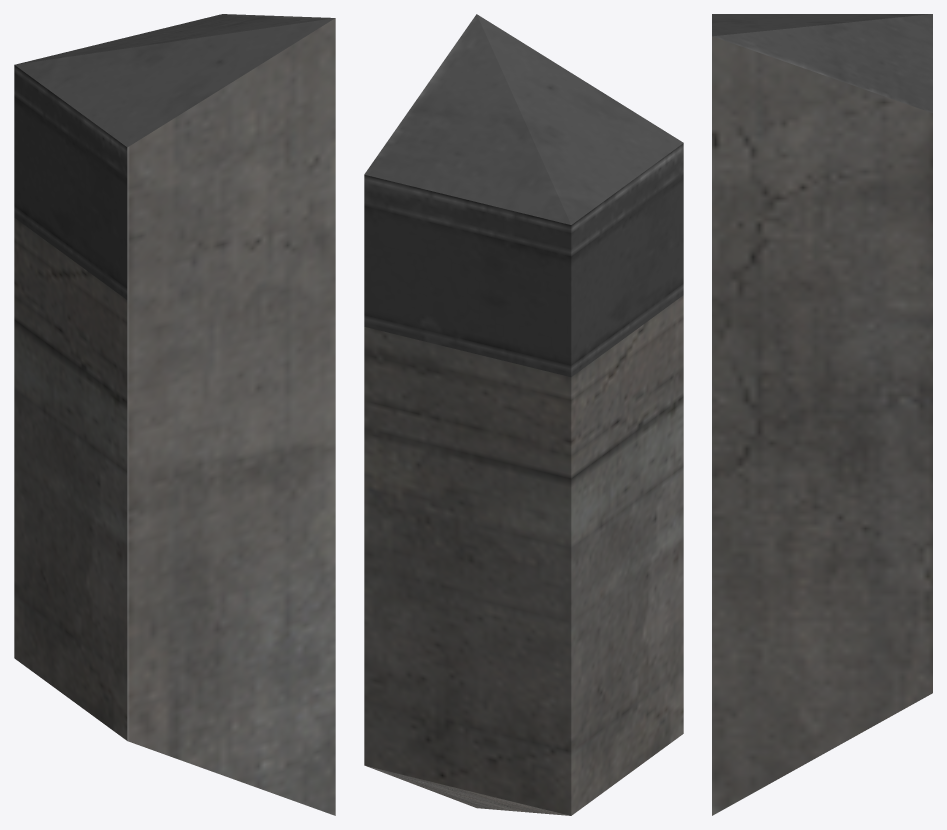
The model's file is CP_Cornice_B_Angle_In.fbx.
3 renders of one model, left to right at view 1: azimuth 30°, elevation 25°; view 2: azimuth 150°, elevation 25°; view 3: azimuth 270°, elevation 25°, orthographic. The views are drawn at different scales.
Parts seen in each view (by area): view 1: CP_Cornice_B_Angle_In; view 2: CP_Cornice_B_Angle_In; view 3: CP_Cornice_B_Angle_In.
Boxes of the visible parts, box(x1,y1,x2,y2) form: CP_Cornice_B_Angle_In: box(14, 14, 335, 815); CP_Cornice_B_Angle_In: box(364, 14, 683, 815); CP_Cornice_B_Angle_In: box(712, 14, 932, 815).
Bounding box in the file's own units: 23.87 × 87.47 × 22.45.
